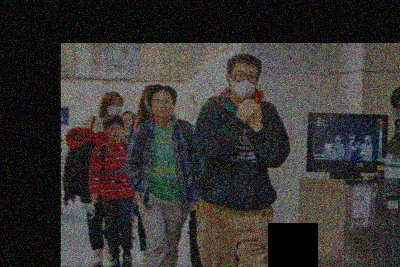with_mask: (230, 69, 259, 100), (105, 100, 122, 119)
without_mask: (149, 96, 176, 119), (107, 124, 124, 142)
